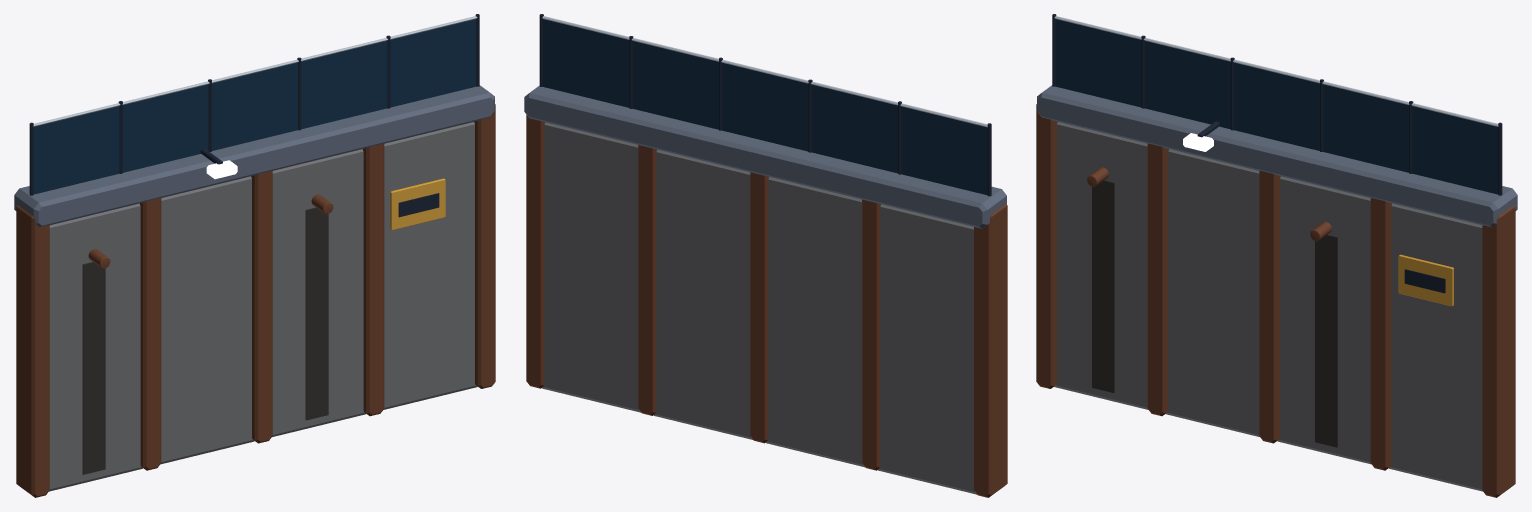
The model's file is switchyard_retainingwall.glb.
3 views of the same model, side by side, from view 1: azimuth 30°, elevation 25°; view 2: azimuth 150°, elevation 25°; view 3: azimuth 330°, elevation 25° (orthographic).
Visible parts, largest first — view 1: rw_fence, rw_panel1, rw_panel3, rw_panel0, rw_panel2, rw_cap, rw_pile0, rw_pile3, rw_pile1, rw_pile4, rw_pile2, rw_scupper_stain-3.75 (+4 smaller); view 2: rw_fence, rw_panel2, rw_panel3, rw_panel1, rw_panel0, rw_cap, rw_pile0, rw_pile4, rw_pile2, rw_pile3, rw_pile1, rw_fence_rail; view 3: rw_fence, rw_panel1, rw_panel3, rw_panel0, rw_panel2, rw_cap, rw_pile4, rw_pile1, rw_pile3, rw_pile0, rw_pile2, rw_scupper_stain-3.75 (+4 smaller).
Part boxes in pixels (x1,y1,x2,y2): rw_fence: [33, 19, 476, 194]; rw_panel1: [161, 176, 254, 464]; rw_panel3: [383, 122, 477, 409]; rw_panel0: [49, 203, 142, 491]; rw_panel2: [272, 149, 365, 436]; rw_cap: [14, 85, 494, 227]; rw_pile0: [16, 205, 49, 497]; rw_pile3: [362, 143, 384, 416]; rw_pile1: [139, 198, 161, 470]; rw_pile4: [474, 104, 495, 388]; rw_pile2: [251, 171, 272, 443]; rw_scupper_stain-3.75: [82, 262, 105, 474]; rw_fence: [543, 19, 987, 195]; rw_panel2: [654, 149, 752, 439]; rw_panel3: [542, 122, 641, 412]; rw_panel1: [765, 177, 864, 467]; rw_panel0: [878, 204, 976, 494]; rw_cap: [524, 85, 1006, 228]; rw_pile0: [974, 204, 1007, 497]; rw_pile4: [526, 115, 545, 388]; rw_pile2: [750, 172, 768, 443]; rw_pile3: [638, 145, 656, 415]; rw_pile1: [862, 199, 880, 470]; rw_fence_rail: [542, 16, 987, 127]; rw_fence: [1055, 19, 1498, 194]; rw_panel1: [1166, 149, 1259, 436]; rw_panel3: [1389, 203, 1482, 491]; rw_panel0: [1054, 122, 1148, 409]; rw_panel2: [1277, 176, 1370, 464]; rw_cap: [1037, 85, 1517, 227]; rw_pile4: [1482, 205, 1515, 497]; rw_pile1: [1147, 143, 1169, 416]; rw_pile3: [1370, 198, 1392, 470]; rw_pile0: [1036, 104, 1057, 388]; rw_pile2: [1259, 171, 1280, 443]; rw_scupper_stain-3.75: [1092, 180, 1114, 392].
Bounding box in the file's own units: 10.41 × 7.89 × 1.5.
